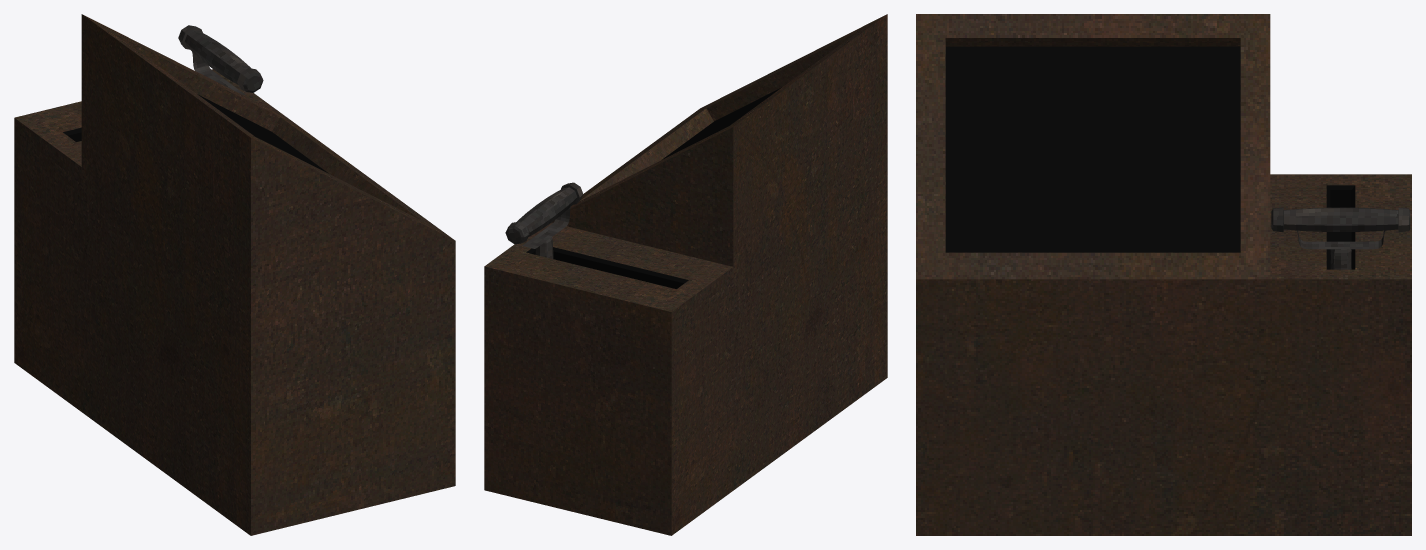
The model's file is medscanner.glb.
The picture shows the model from 3 angles, left to right: view 1: azimuth 30°, elevation 25°; view 2: azimuth 150°, elevation 25°; view 3: azimuth 270°, elevation 25°; orthographic projection. The views are drawn at different scales.
Parts seen in each view (by area): view 1: Scanner, Handle; view 2: Scanner, Handle; view 3: Scanner, Handle.
Boxes of the visible parts, <box> form: Scanner: <box>14,14,455,535</box>; Handle: <box>178,25,263,95</box>; Scanner: <box>484,14,887,535</box>; Handle: <box>505,182,583,258</box>; Scanner: <box>916,14,1411,535</box>; Handle: <box>1271,207,1410,269</box>.
Bounding box in the file's own units: 0.7 × 1.3 × 1.4.
Materials: 4 (3 with a texture image).
